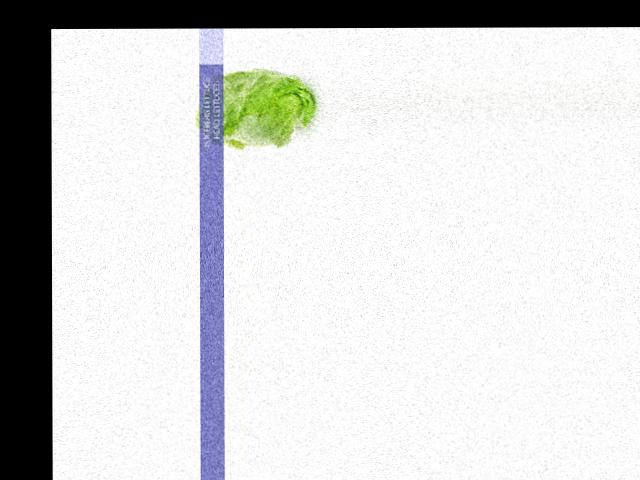lettuce: (195, 71, 321, 149)
